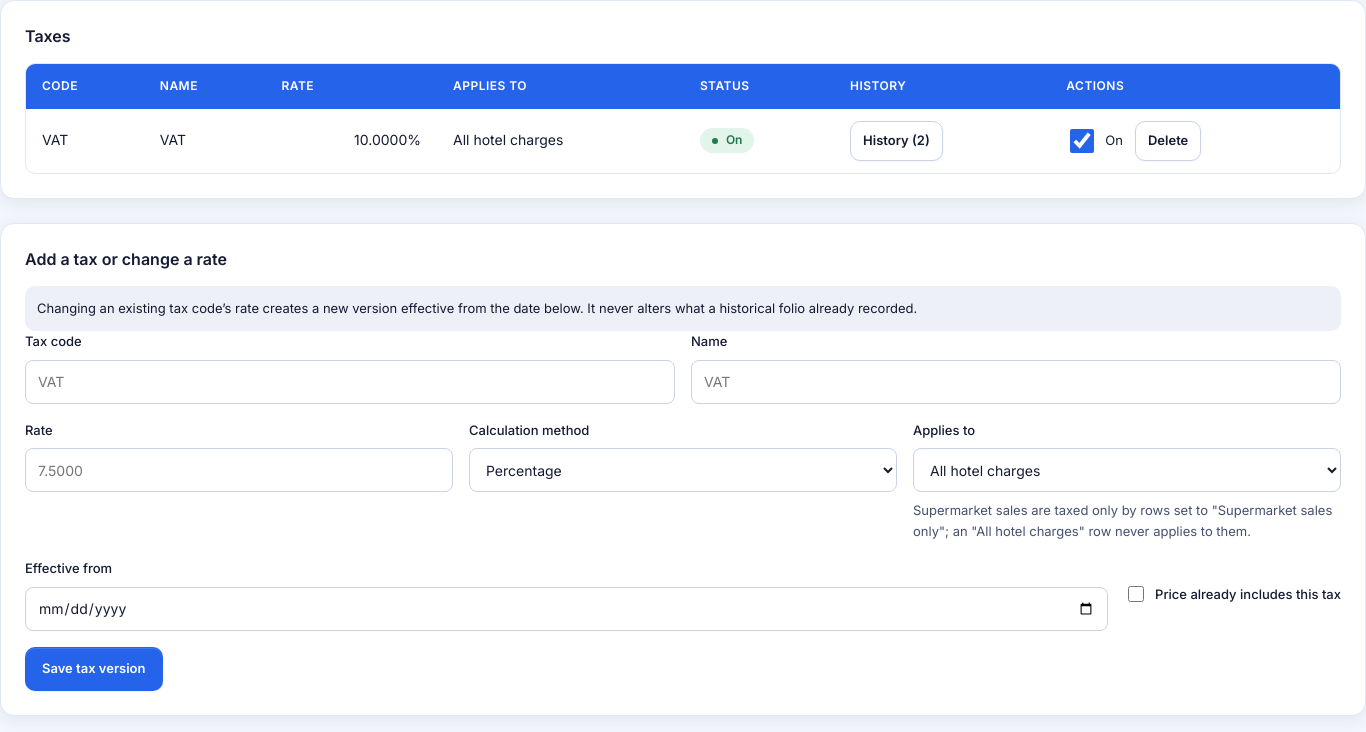
Test: <TaxesTab> › switch and delete › a refused switch shows the server message
The image size is (1366, 732).
Click the switch at point(1082, 141), box [1070, 129, 1094, 153]
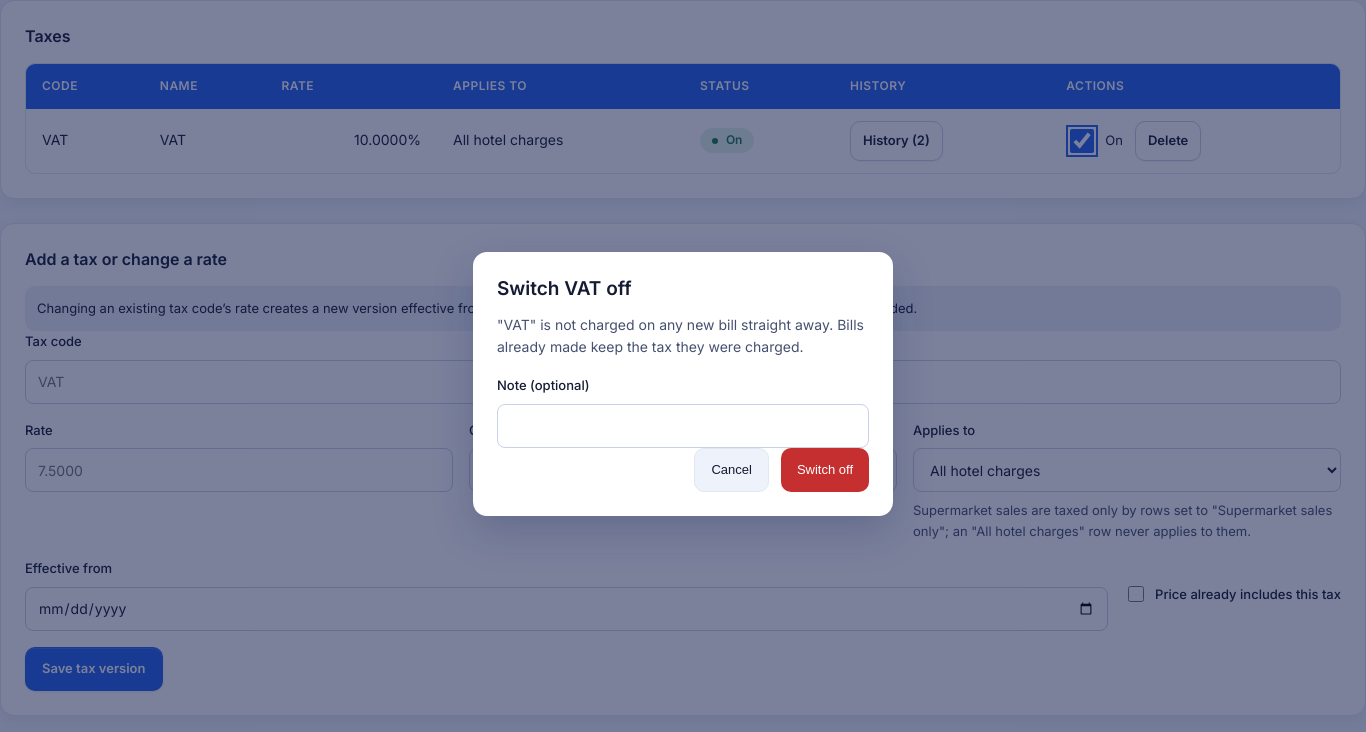
Click the button "Switch off" at point(825, 470), box [781, 448, 869, 492]
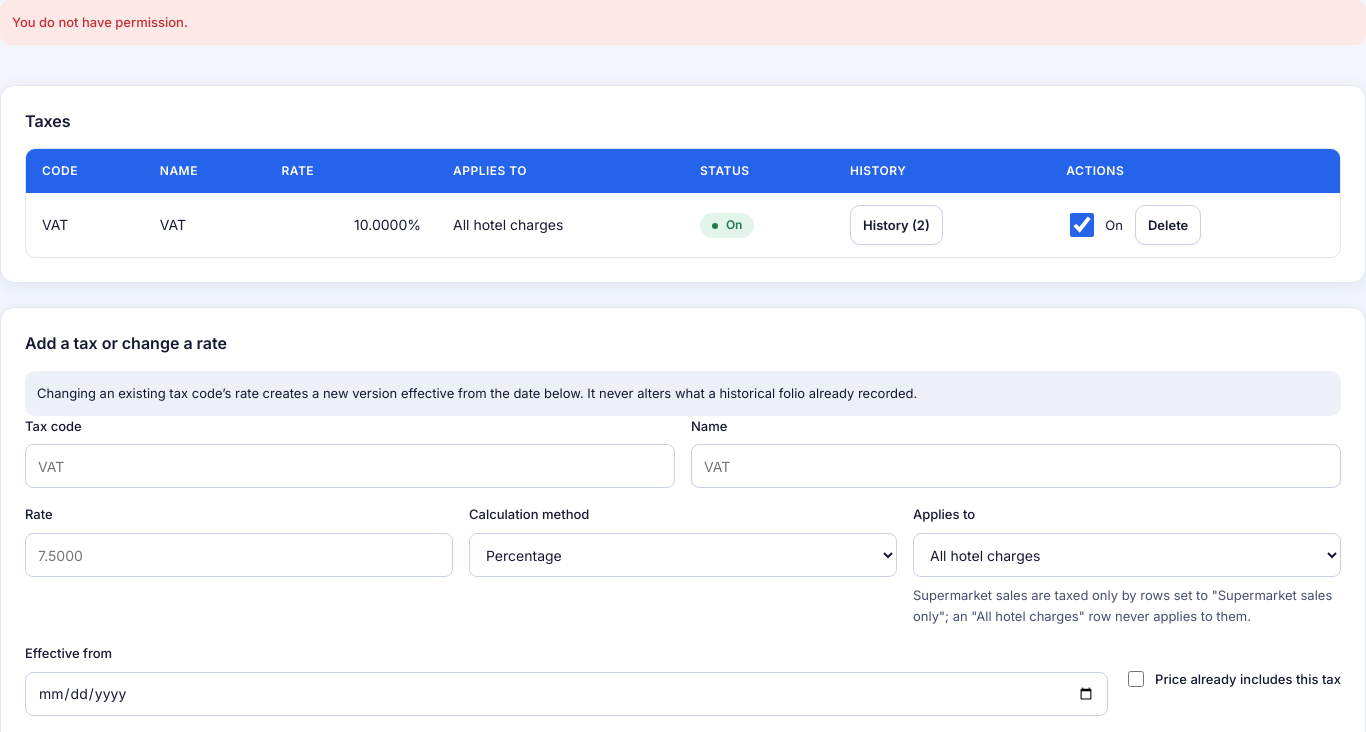
Expected: the message shows "do not have permission", [12, 14, 188, 30]
